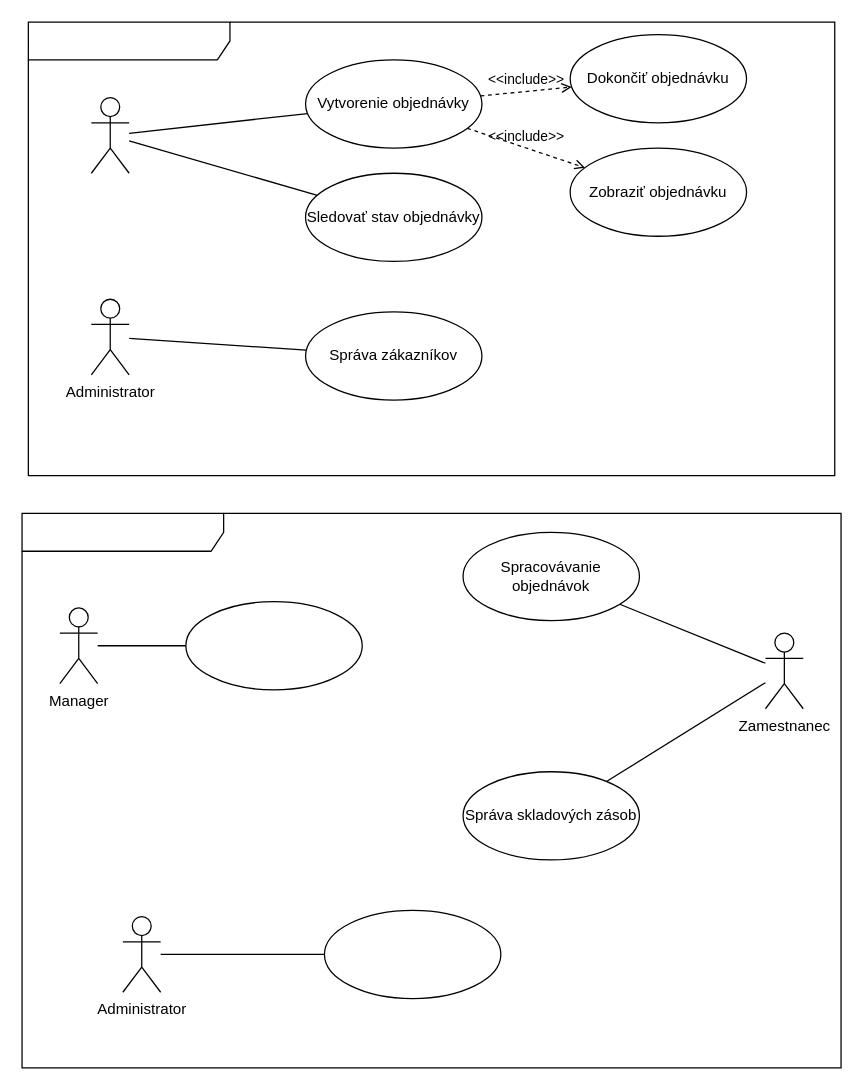
This 863x1090 diagram has some shape labels left out. The box of each missing label's shape, as (x1, y1, x2, y2) in pixels:
Analýza dát: (185, 600, 362, 690)
Obchodný modul: (27, 21, 835, 476)
Správa zamestnancov: (323, 909, 501, 999)
Výrobný modul: (21, 512, 841, 1068)
Zákazník: (90, 96, 129, 173)
